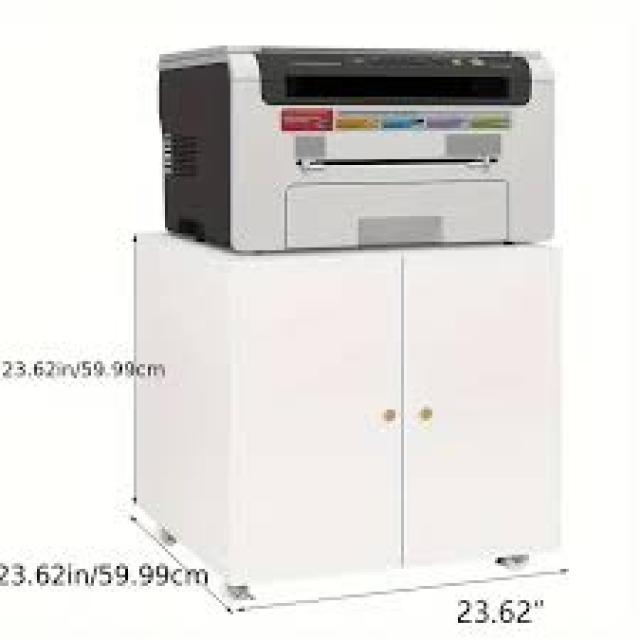printer: (153, 43, 554, 253)
